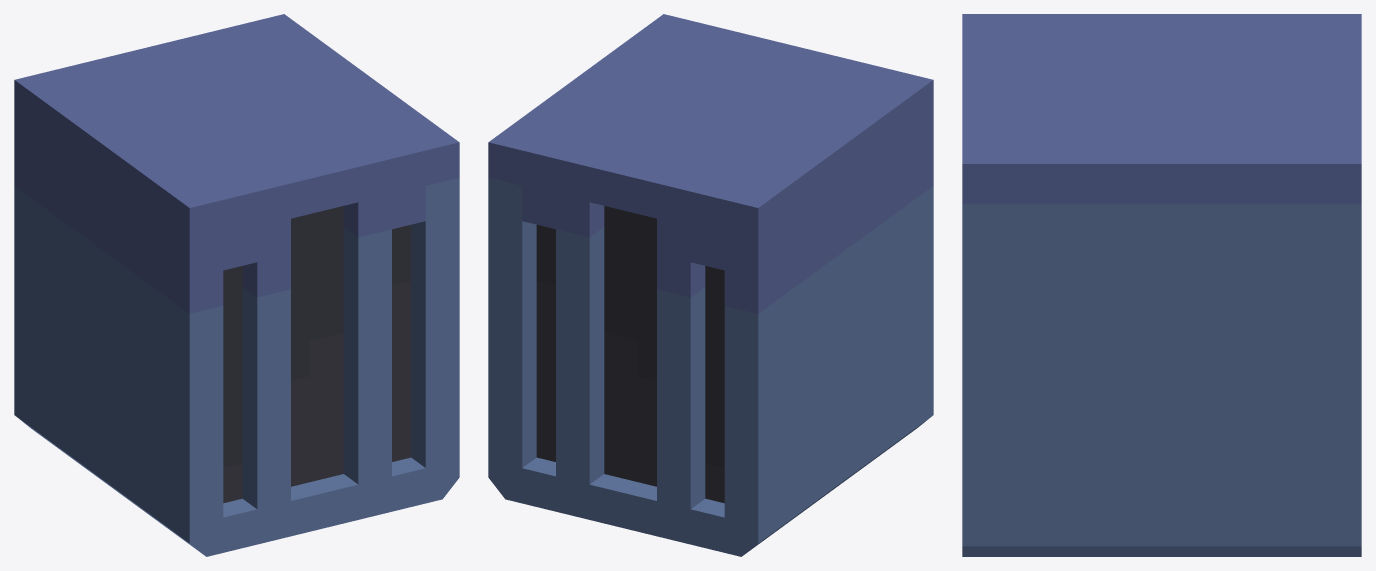
The model's file is trash.glb.
3 views of the same model, side by side, from view 1: azimuth 30°, elevation 25°; view 2: azimuth 150°, elevation 25°; view 3: azimuth 270°, elevation 25° (orthographic). The views are drawn at different scales.
Parts seen in each view (by area): view 1: generated(Clone); view 2: generated(Clone); view 3: generated(Clone).
Part boxes in pixels (left/top/right/bottom): generated(Clone): left=14, top=14, right=459, bottom=556; generated(Clone): left=488, top=14, right=933, bottom=556; generated(Clone): left=962, top=14, right=1361, bottom=556.
Size of the model in its own units: 6 by 7.5 by 6.75.
Materials: 1 (1 with a texture image).
